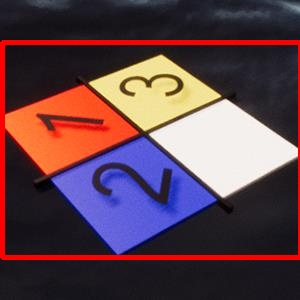nfpa: (2, 42, 300, 257)
